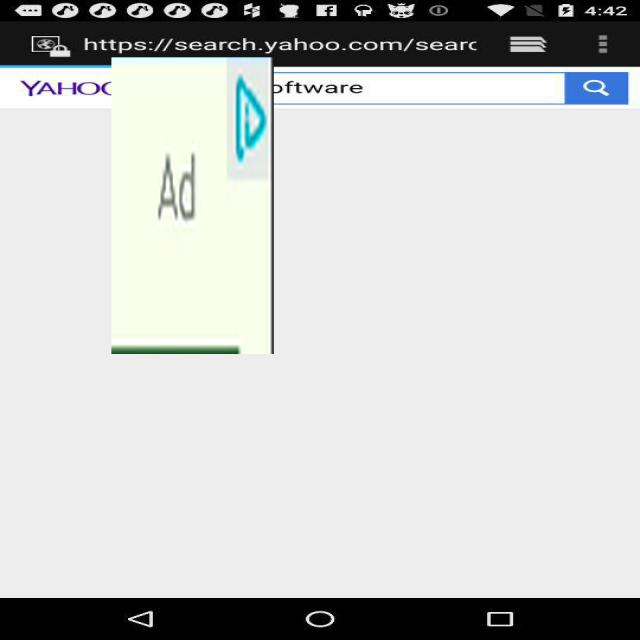sneaking: (111, 57, 274, 354)
